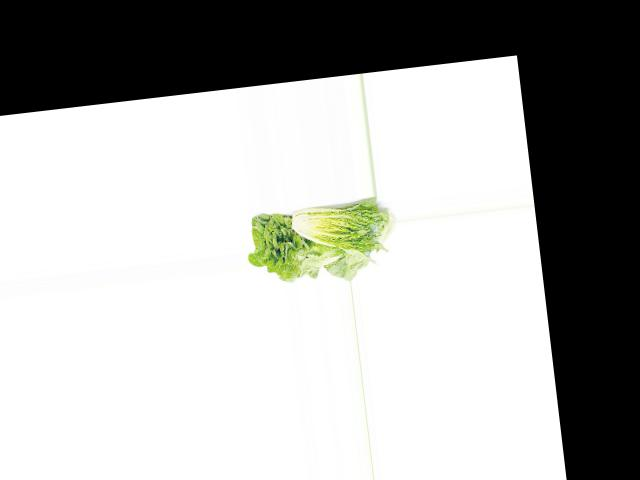lettuce: (245, 200, 341, 286)
